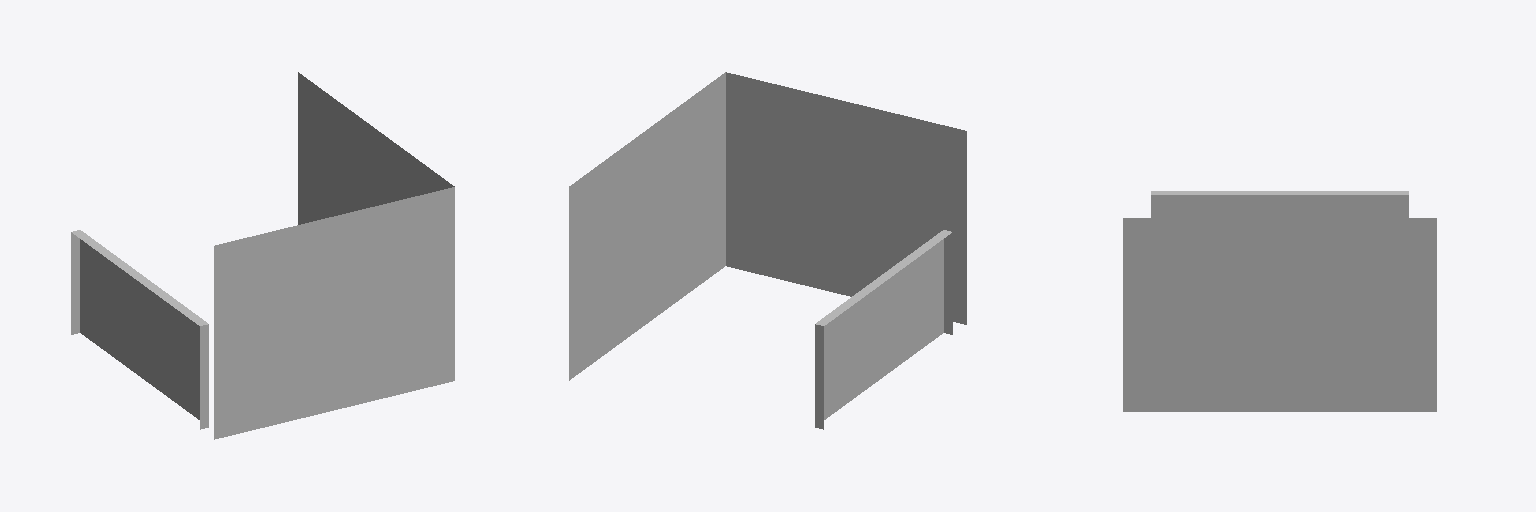
Rendered from city_factory_cerca35.obj.
3 views of the same model, side by side, from view 1: azimuth 30°, elevation 25°; view 2: azimuth 150°, elevation 25°; view 3: azimuth 270°, elevation 25° (orthographic).
Parts seen in each view (by area): view 1: pasted__pCube2.001; view 2: pasted__pCube2.001; view 3: pasted__pCube2.001.
Part boxes in pixels (bbox=[...]): pasted__pCube2.001: bbox=[71, 72, 454, 439]; pasted__pCube2.001: bbox=[569, 72, 966, 429]; pasted__pCube2.001: bbox=[1123, 191, 1436, 411].
Bounding box in the file's own units: 16 × 12.3 × 18.